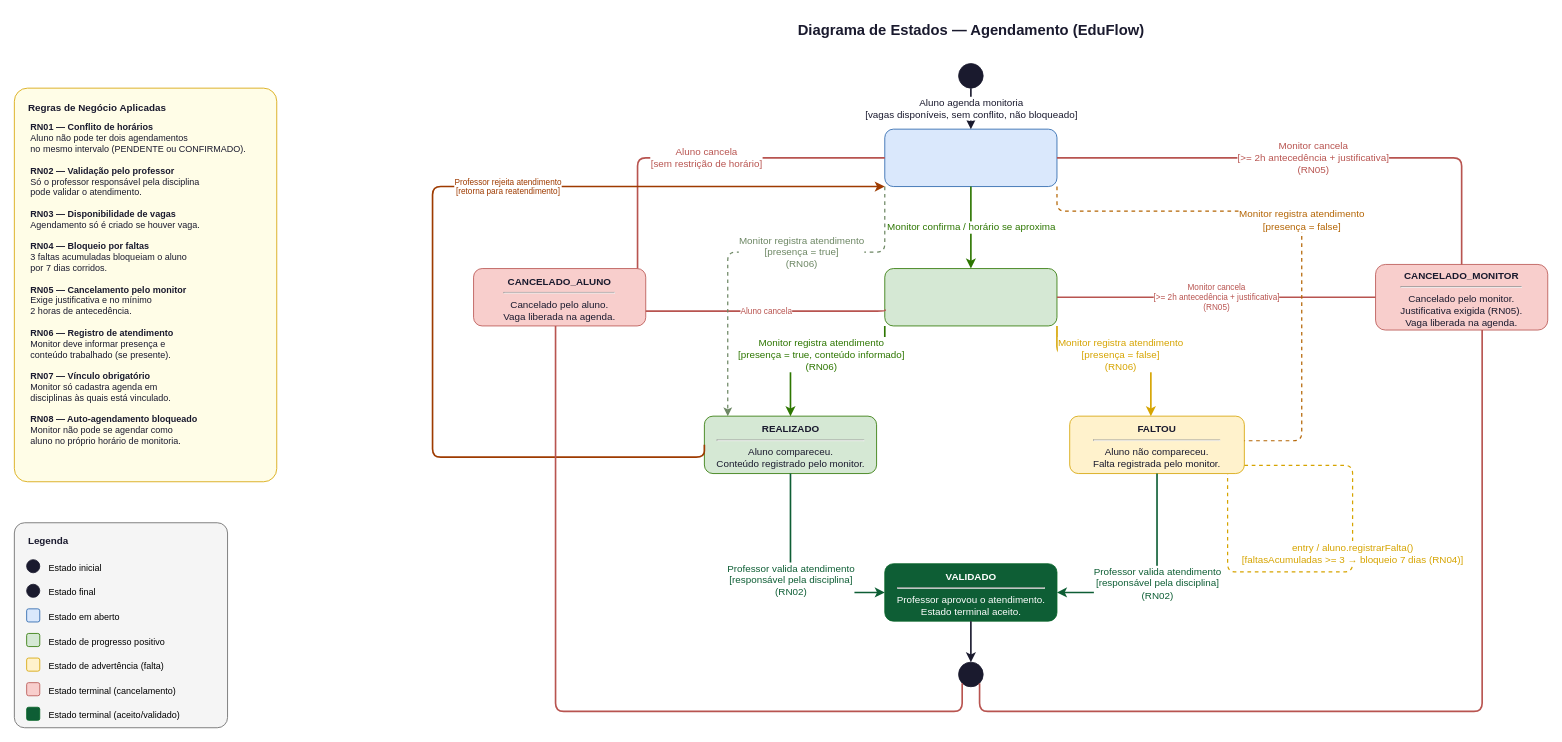
Image size: 1562x742. Some labels were removed from this diagram. The box of each missing label's shape, as (x1, y1, x2, y2) in pixels:
CONFIRMADO Presença confirmada. Monitoria prestes a ocorrer.: (884, 268, 1057, 326)
PENDENTE Agendamento criado. Aguardando ação dos atores.: (884, 128, 1057, 187)
